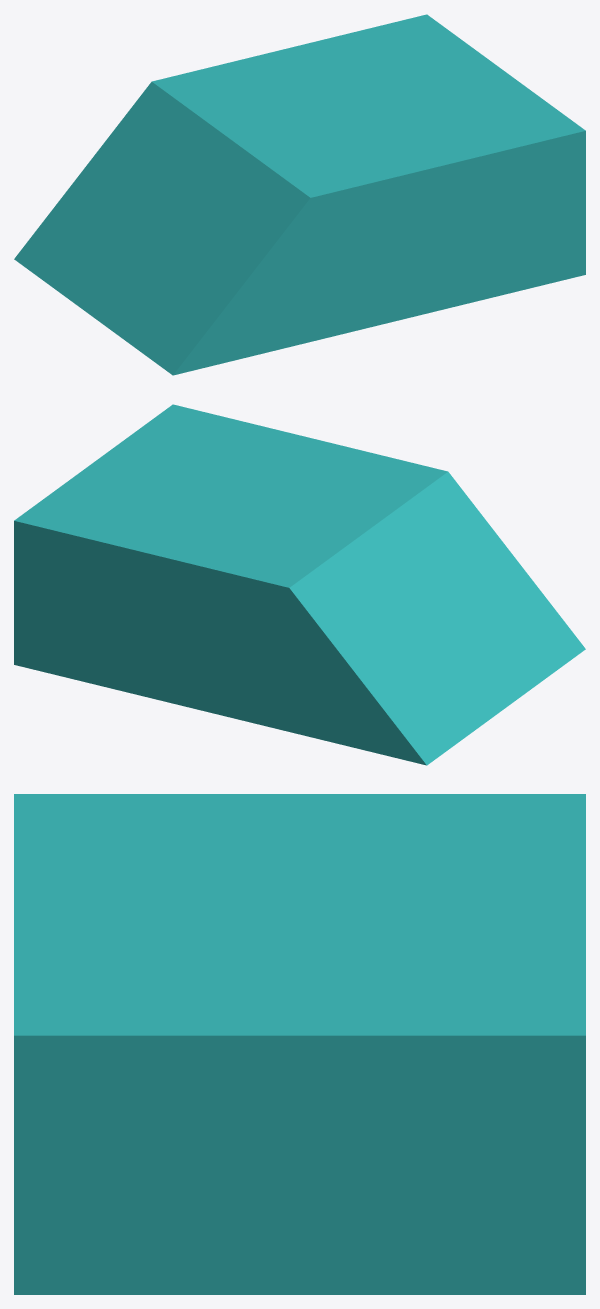
The model's file is world_two_slope.dae.
The picture shows the model from 3 angles, top to bottom: view 1: azimuth 30°, elevation 25°; view 2: azimuth 150°, elevation 25°; view 3: azimuth 270°, elevation 25°; orthographic projection. The views are drawn at different scales.
Parts seen in each view (by area): view 1: world_two_slope; view 2: world_two_slope; view 3: world_two_slope.
Part boxes in pixels (x1,y1,x2,y2): world_two_slope: (14, 14, 585, 375); world_two_slope: (14, 404, 585, 765); world_two_slope: (14, 794, 585, 1294).
Bounding box in the file's own units: 3 × 2 × 1.
